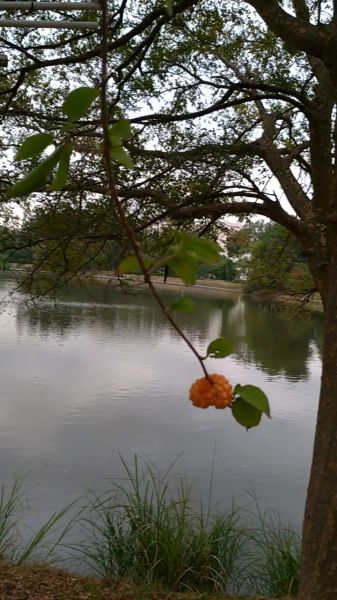eggs: (185, 366, 236, 417)
